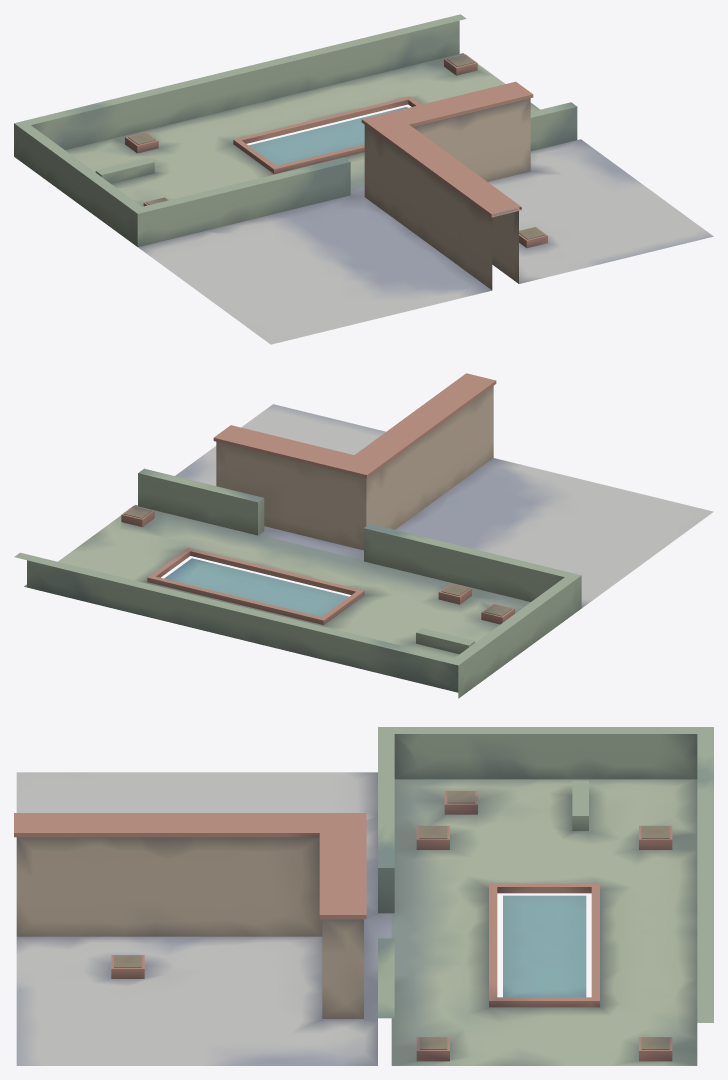
The picture shows the model from 3 angles, top to bottom: view 1: azimuth 30°, elevation 25°; view 2: azimuth 150°, elevation 25°; view 3: azimuth 270°, elevation 25°; orthographic projection. The views are drawn at different scales.
Parts seen in each view (by area): view 1: t; view 2: t; view 3: t.
Boxes of the visible parts, x1,y1,x2,y2 form: t: (14, 14, 713, 344); t: (14, 373, 713, 698); t: (14, 727, 713, 1065).
Size of the model in its own units: 50.4 by 8.35 by 50.4.
